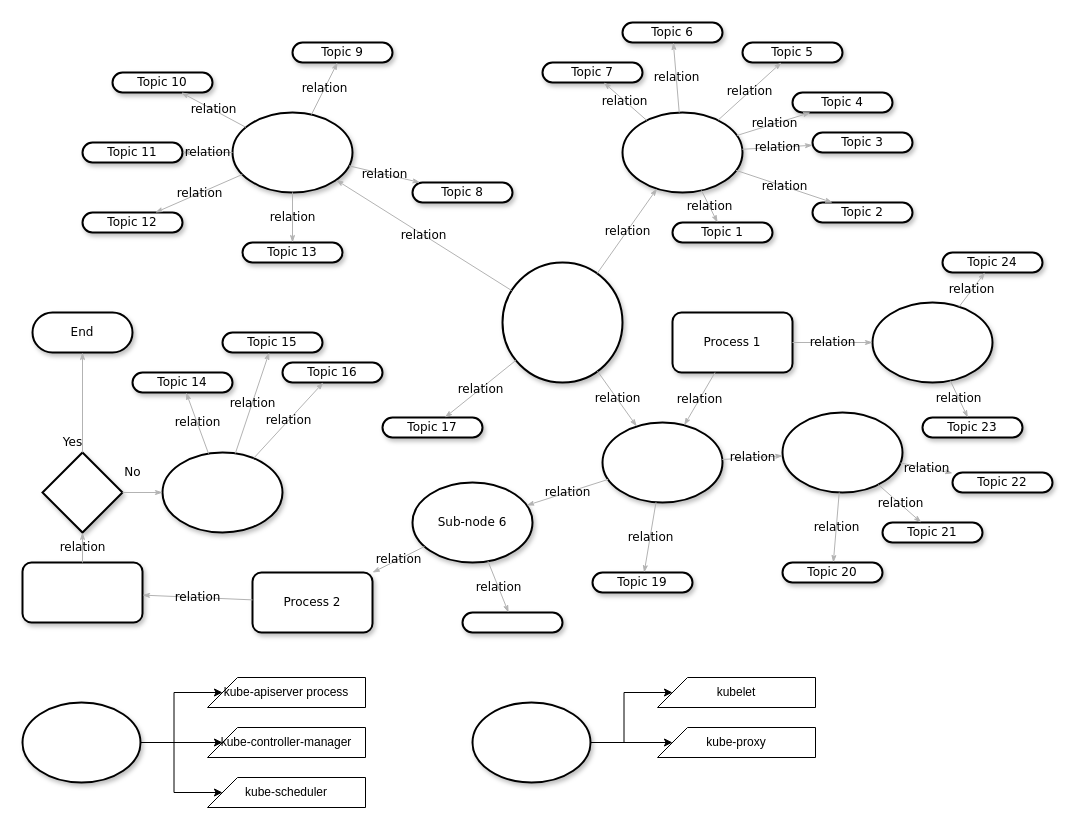
This 1076x825 diagram has some shape labels left out. The centre of each missing label's shape, as x and y in pixels:
"Condition" belongs at point (83, 493).
"Master - each master node is consist of 3 processes" belongs at point (82, 743).
"Node - a computing node is consist of 2 processes" belongs at point (532, 743).
"Process 3" belongs at point (83, 593).
"Root node" belongs at point (563, 323).
"Sub-node 1" belongs at point (293, 153).
"Sub-node 2" belongs at point (683, 153).
"Sub-node 3" belongs at point (933, 343).
"Sub-node 4" belongs at point (843, 453).
"Sub-node 5" belongs at point (663, 463).
"Sub-node 7" belongs at point (223, 493).
"Topic 18" belongs at point (513, 623).
